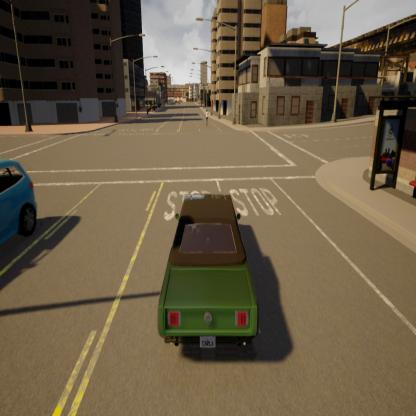Cars: (146, 183, 264, 357), (0, 150, 43, 264)
